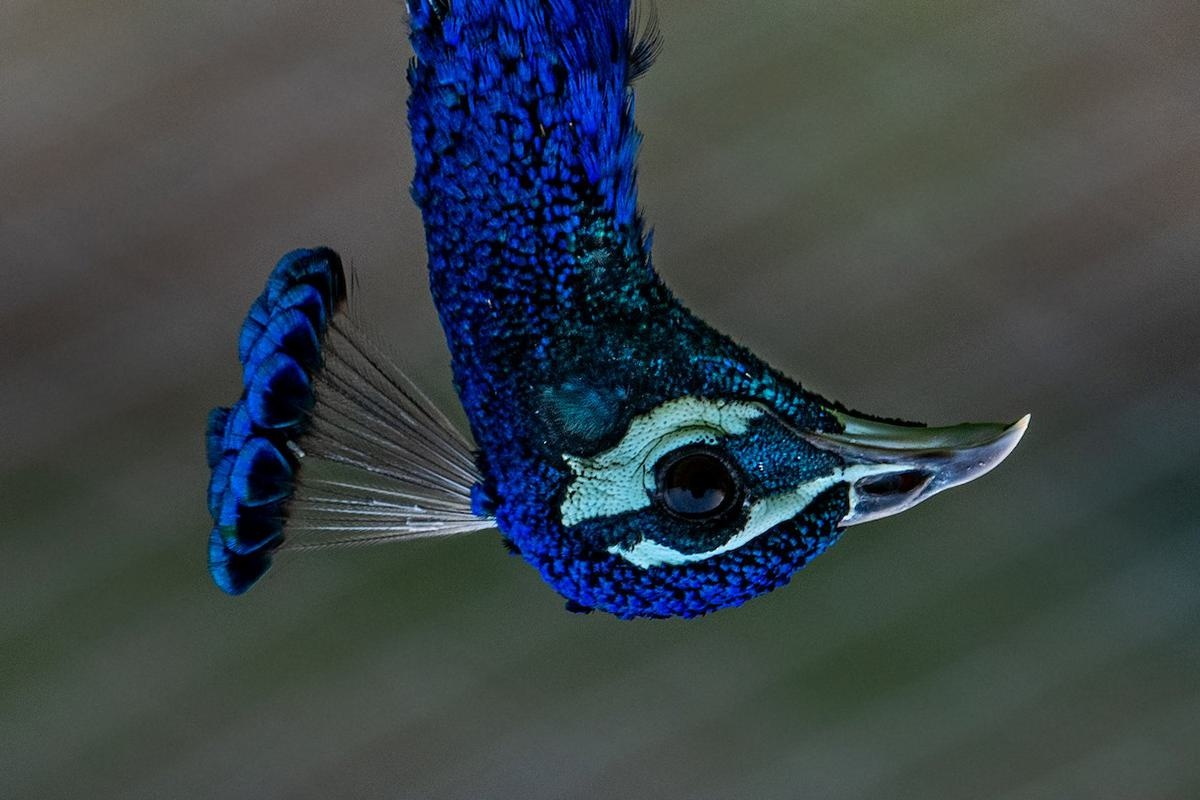peacock: (167, 1, 1026, 626)
